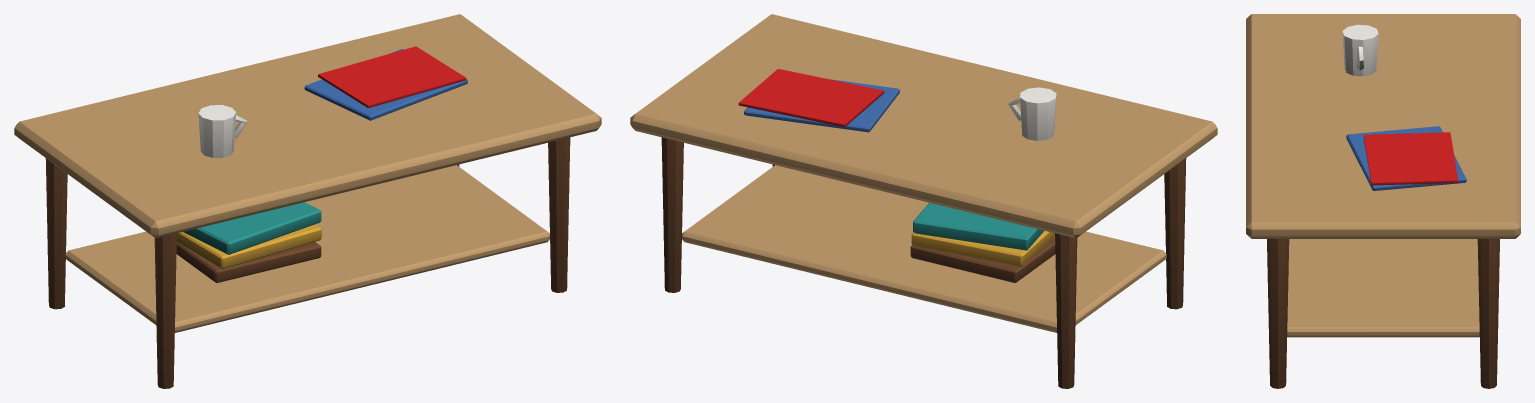
Rendered from coffee_table_01.fbx.
3 renders of one model, left to right at view 1: azimuth 30°, elevation 25°; view 2: azimuth 150°, elevation 25°; view 3: azimuth 270°, elevation 25°, orthographic. The views are drawn at different scales.
Visible parts, largest first — view 1: coffee_table_01_LOD0; view 2: coffee_table_01_LOD0; view 3: coffee_table_01_LOD0.
Boxes of the visible parts, <box> form: coffee_table_01_LOD0: <box>14,14,601,388</box>; coffee_table_01_LOD0: <box>630,14,1217,388</box>; coffee_table_01_LOD0: <box>1246,14,1520,388</box>.
Size of what is drawn, in the model's own units: 1.1 by 0.51 by 0.6.
Materials: 1 (1 with a texture image).
